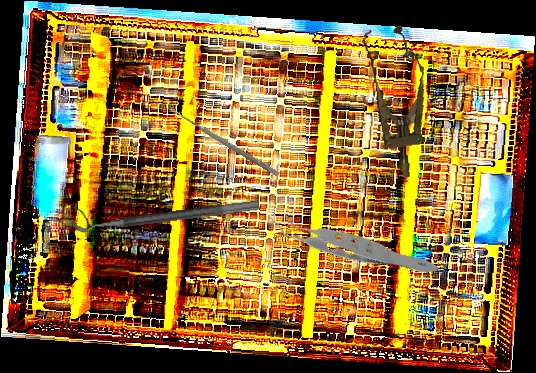Fixation Ring: (68, 183, 260, 235)
Speculum: (358, 23, 437, 182)
Surgical Spoon: (166, 105, 281, 177)
Tissue Forceps: (266, 153, 439, 331)
